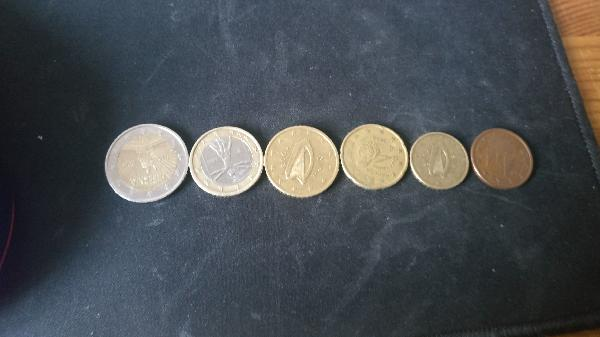Fifty Cent: (266, 124, 340, 198)
Five Cent: (469, 127, 538, 190)
One Euro: (190, 126, 266, 195)
Ten Cent: (410, 132, 470, 188)
Twenty Cent: (341, 126, 409, 192)
Two Euro: (103, 125, 191, 204)
